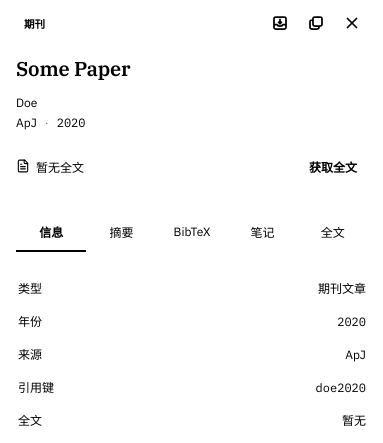
Test: RefDetail notes tab › shows the empty state when the ref carries no note
Click the tab "笔记" at coordinates (262, 233), box [227,214,298,252]
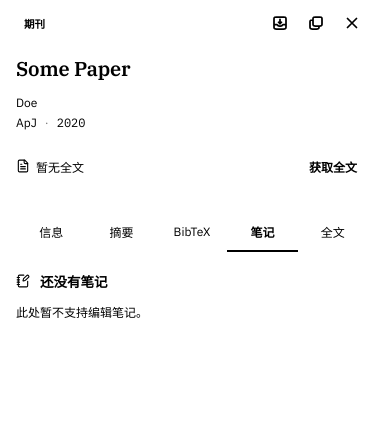
Now the text "还没有笔记" is shown, box [40,271,108,291]
Now the text "此处暂不支持编辑笔记。" is shown, box [16,305,148,320]
